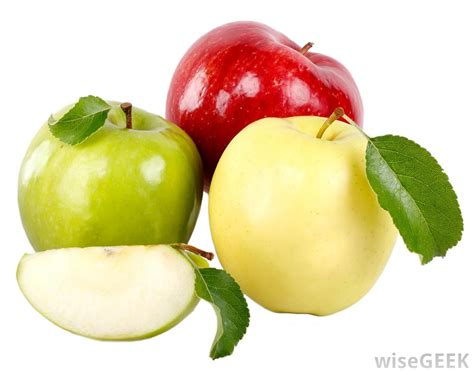apple: (206, 113, 401, 321), (16, 101, 201, 266), (160, 21, 365, 149)
